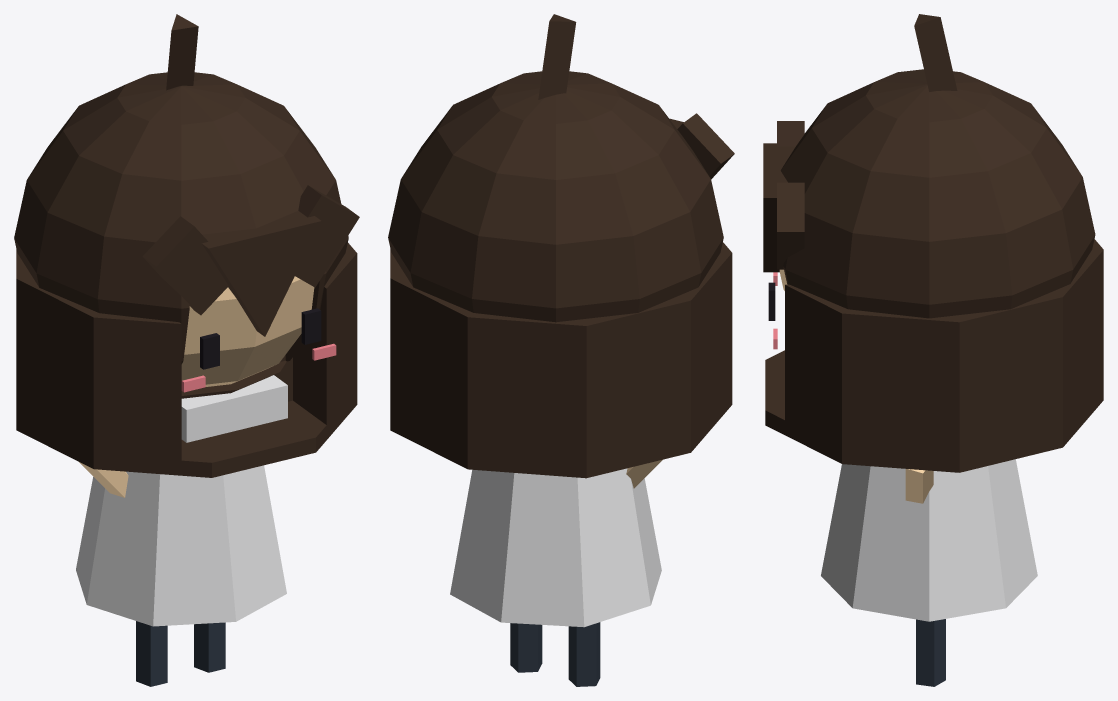
File: lp_bob.glb
3 renders of one model, left to right at view 1: azimuth 30°, elevation 25°; view 2: azimuth 150°, elevation 25°; view 3: azimuth 270°, elevation 25°, orthographic.
Visible parts, largest first — view 1: Hair, HairSkirt, Dress, BangV, Head, Collar, BangL, BangR, LegL, Ahoge, LegR, ArmL (+2 smaller); view 2: Hair, HairSkirt, Dress, Ahoge, LegL, BangL, LegR; view 3: Hair, HairSkirt, Dress, BangV, Ahoge, BangR, LegR, ArmR, BangL.
Boxes of the visible parts, left/top/right/bottom form: Hair: left=14, top=72, right=348, bottom=398; HairSkirt: left=16, top=243, right=357, bottom=477; Dress: left=76, top=465, right=286, bottom=626; BangV: left=202, top=210, right=321, bottom=336; Head: left=181, top=276, right=314, bottom=386; Collar: left=181, top=375, right=287, bottom=442; BangL: left=142, top=216, right=228, bottom=315; BangR: left=295, top=185, right=359, bottom=287; LegL: left=136, top=621, right=167, bottom=686; Ahoge: left=166, top=14, right=198, bottom=90; LegR: left=194, top=622, right=225, bottom=672; ArmL: left=79, top=462, right=128, bottom=497; Hair: left=388, top=71, right=723, bottom=322; HairSkirt: left=390, top=242, right=732, bottom=478; Dress: left=450, top=468, right=661, bottom=627; Ahoge: left=538, top=14, right=576, bottom=99; LegL: left=568, top=622, right=600, bottom=686; BangL: left=677, top=113, right=734, bottom=179; LegR: left=510, top=623, right=542, bottom=672; Hair: left=780, top=69, right=1095, bottom=318; HairSkirt: left=765, top=239, right=1103, bottom=472; Dress: left=821, top=459, right=1037, bottom=621; BangV: left=763, top=143, right=795, bottom=272; Ahoge: left=914, top=14, right=957, bottom=91; BangR: left=777, top=182, right=804, bottom=269; LegR: left=916, top=619, right=945, bottom=686; ArmR: left=905, top=469, right=933, bottom=503; BangL: left=777, top=121, right=804, bottom=146.
Bounding box in the file's own units: 0.6204 × 1.29 × 0.615.
